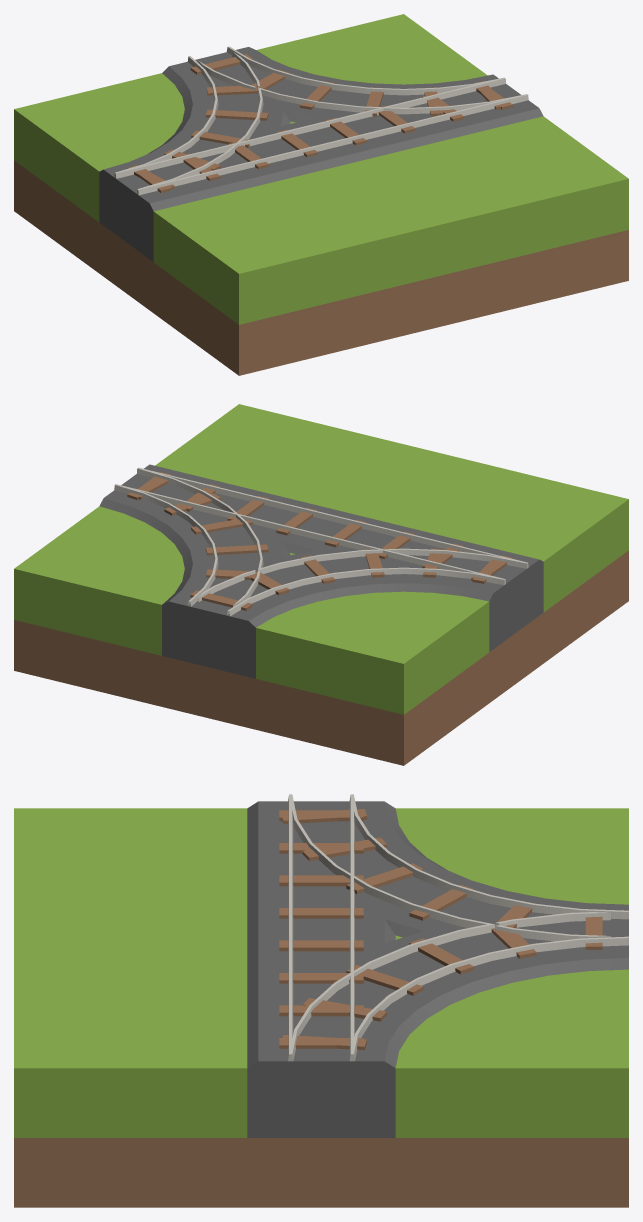
File: rail_split4.fbx
3 renders of one model, top to bottom at view 1: azimuth 30°, elevation 25°; view 2: azimuth 150°, elevation 25°; view 3: azimuth 270°, elevation 25°, orthographic. The views are drawn at different scales.
Parts seen in each view (by area): view 1: landscape-track-1-tjunction.001; view 2: landscape-track-1-tjunction.001; view 3: landscape-track-1-tjunction.001.
Part boxes in pixels (<box>): landscape-track-1-tjunction.001: <box>14,14,628,375</box>; landscape-track-1-tjunction.001: <box>14,404,628,765</box>; landscape-track-1-tjunction.001: <box>14,794,628,1207</box>.
Size of the model in its own units: 8 by 2.2 by 8.
Materials: 1 (1 with a texture image).
